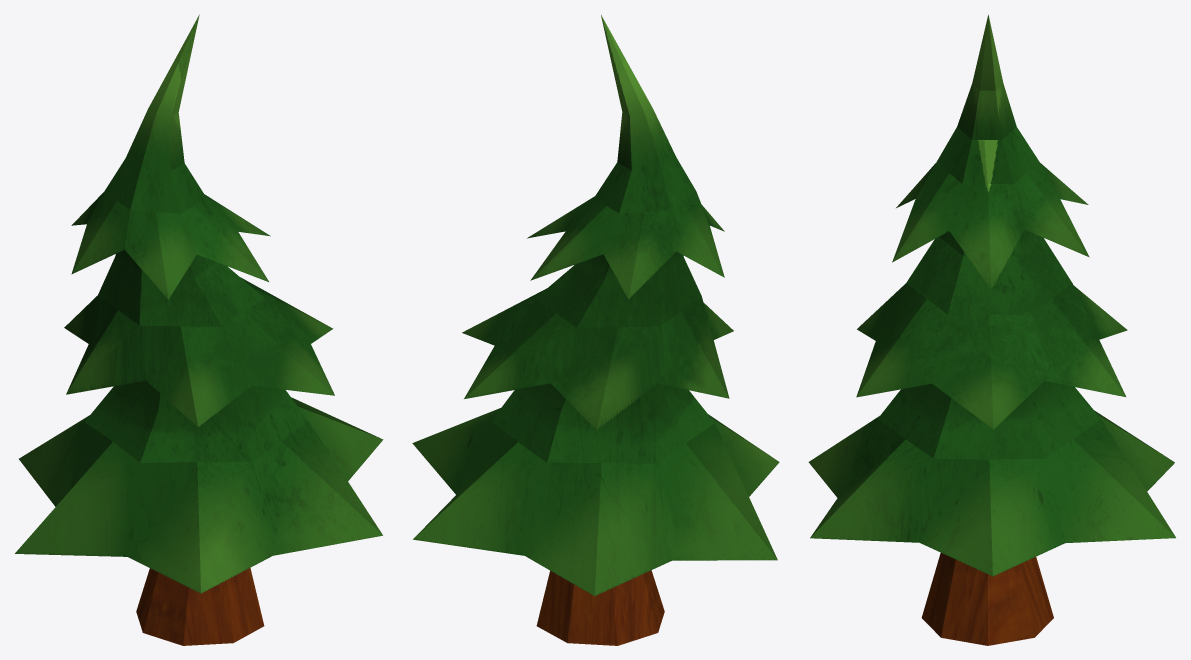
The model's file is Pine_tree_1.fbx.
3 renders of one model, left to right at view 1: azimuth 30°, elevation 25°; view 2: azimuth 150°, elevation 25°; view 3: azimuth 270°, elevation 25°, orthographic.
Visible parts, largest first — view 1: Pine_tree_1; view 2: Pine_tree_1; view 3: Pine_tree_1.
Part boxes in pixels (x1,y1,x2,y2): Pine_tree_1: (15,14,383,645); Pine_tree_1: (412,15,779,645); Pine_tree_1: (808,14,1175,645).
Bounding box in the file's own units: 3.31 × 5.21 × 2.88.
